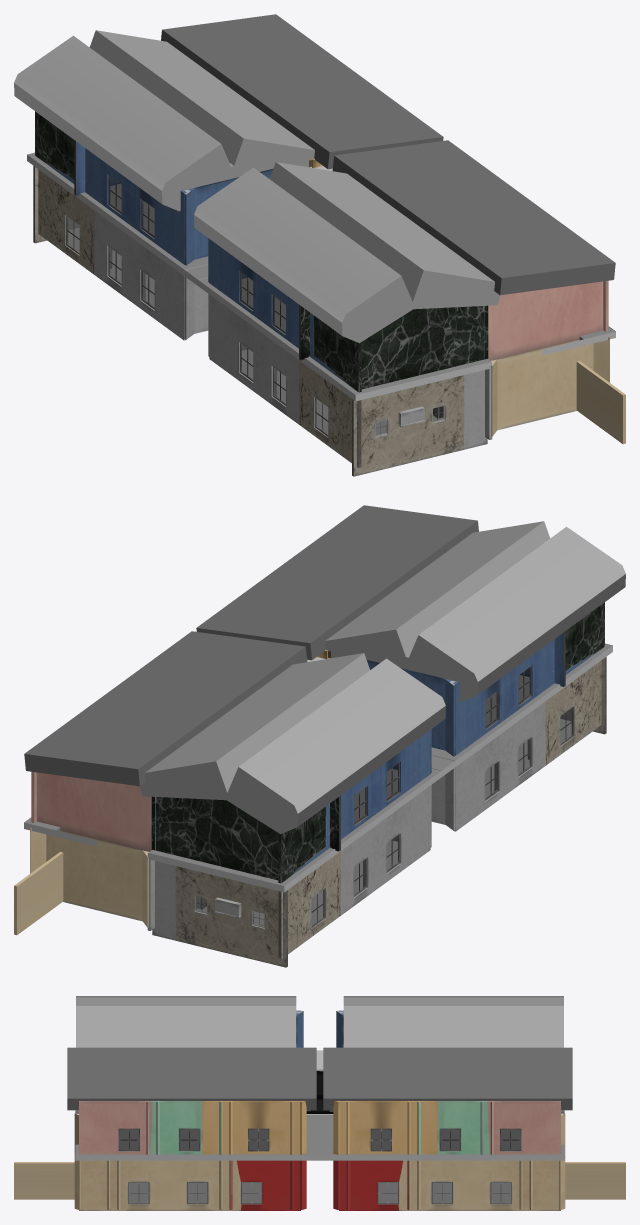
Rendered from Condo.fbx.
The picture shows the model from 3 angles, top to bottom: view 1: azimuth 30°, elevation 25°; view 2: azimuth 150°, elevation 25°; view 3: azimuth 270°, elevation 25°; orthographic projection. The views are drawn at different scales.
Parts seen in each view (by area): view 1: Roof (×2), Roof1 (×2), Wall40 (×2), Wall24 (×2), Wall41, Wall21, Wall36, Wall14, ground2 (×2), ceiling (×2), Wall33, ground (×2) (+3 smaller); view 2: Roof (×2), Roof1 (×2), Wall40 (×2), Wall24 (×2), Wall41, Wall21, Wall36, Wall14, ground2 (×2), ceiling (×2), Wall33, ground (×2) (+3 smaller); view 3: Roof1 (×2), Roof (×2), Wall39 (×2), Wall18 (×2), ground2 (×2), Wall33 (×2), ceiling (×2), ground (×2), Wall17 (×2), Wall31 (×2), Wall36 (×2), Glass10 (×2) (+7 smaller).
Part boxes in pixels (bbox=[...]): Roof (×2): bbox=[14, 30, 500, 343]; Roof1 (×2): bbox=[161, 14, 615, 295]; Wall40 (×2): bbox=[38, 169, 361, 468]; Wall24 (×2): bbox=[35, 111, 361, 392]; Wall41: bbox=[352, 370, 487, 476]; Wall21: bbox=[361, 305, 488, 389]; Wall36: bbox=[491, 337, 609, 436]; Wall14: bbox=[488, 281, 603, 360]; ground2 (×2): bbox=[28, 153, 614, 394]; ceiling (×2): bbox=[27, 152, 615, 401]; Wall33: bbox=[576, 361, 625, 444]; ground (×2): bbox=[68, 228, 576, 434]; Roof (×2): bbox=[139, 521, 625, 834]; Roof1 (×2): bbox=[24, 505, 478, 786]; Wall40 (×2): bbox=[278, 660, 601, 959]; Wall24 (×2): bbox=[278, 602, 604, 883]; Wall41: bbox=[152, 861, 287, 967]; Wall21: bbox=[151, 796, 278, 880]; Wall36: bbox=[30, 828, 148, 927]; Wall14: bbox=[36, 772, 151, 851]; ground2 (×2): bbox=[25, 644, 611, 885]; ceiling (×2): bbox=[24, 643, 612, 892]; Wall33: bbox=[14, 852, 63, 935]; ground (×2): bbox=[63, 719, 571, 925]; Roof1 (×2): bbox=[67, 1047, 572, 1110]; Roof (×2): bbox=[76, 996, 563, 1047]; Wall39 (×2): bbox=[79, 1160, 560, 1210]; Wall18 (×2): bbox=[79, 1101, 560, 1154]; ground2 (×2): bbox=[75, 1110, 564, 1155]; Wall33 (×2): bbox=[14, 1162, 625, 1199]; ceiling (×2): bbox=[75, 1155, 564, 1160]; ground (×2): bbox=[129, 1182, 510, 1203]; Wall17 (×2): bbox=[290, 1101, 349, 1154]; Wall31 (×2): bbox=[290, 1160, 349, 1209]; Wall36 (×2): bbox=[74, 1113, 565, 1209]; Glass10 (×2): bbox=[179, 1129, 460, 1150].
Size of the model in its own units: 24.82 by 16.73 by 64.58.
